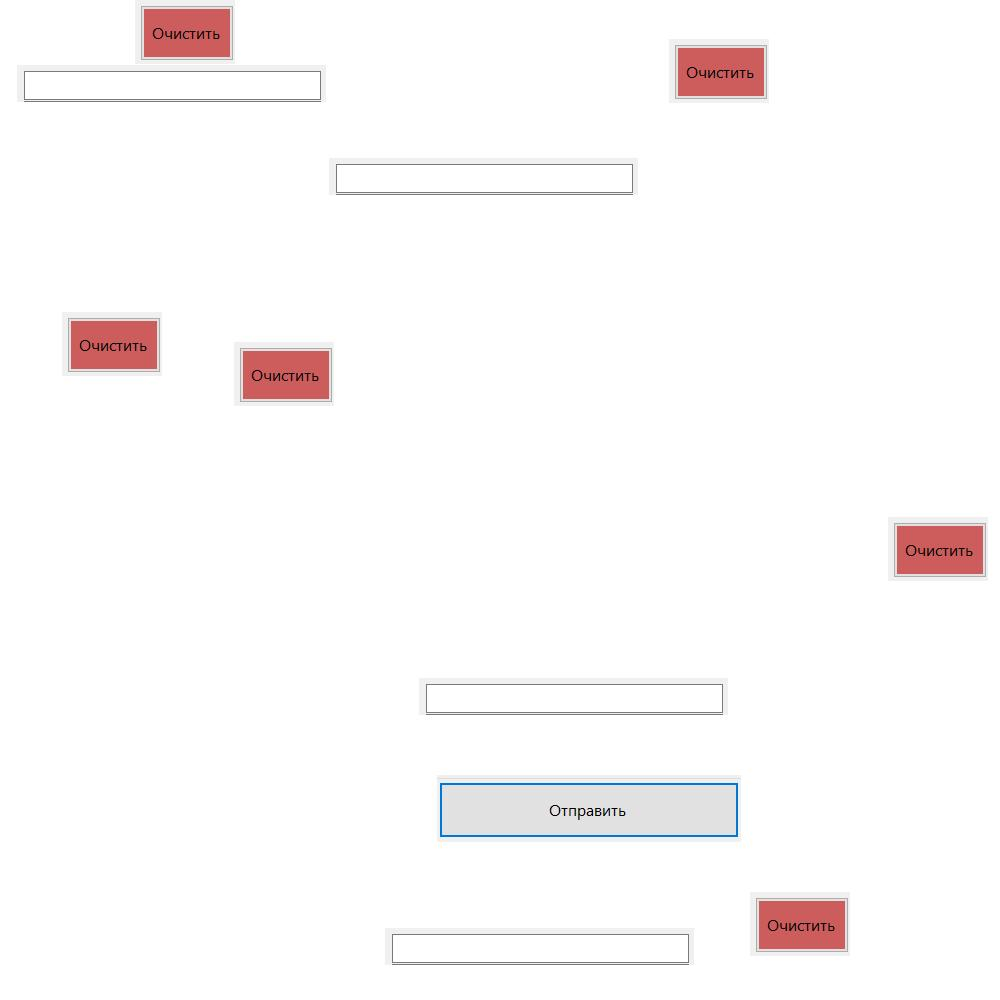Button: (437, 775, 741, 842), (669, 39, 769, 103), (135, 0, 235, 64), (234, 342, 334, 406), (62, 312, 162, 376), (750, 892, 850, 956), (888, 517, 988, 581)
EditText-: (419, 678, 728, 715), (329, 158, 638, 195), (17, 65, 326, 102), (385, 928, 694, 965)
